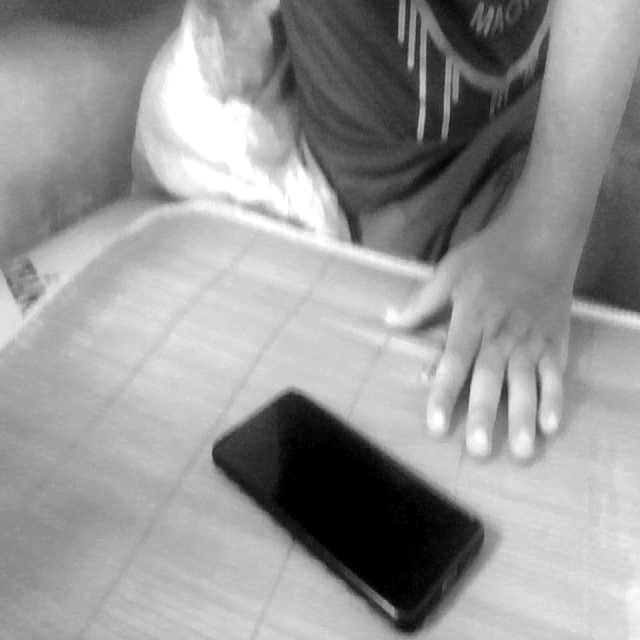phone: (194, 357, 496, 634)
